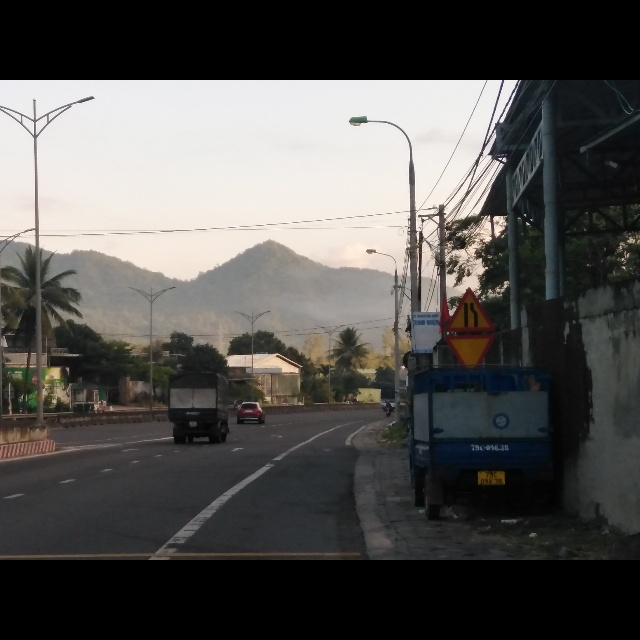Giao nhau với đường ưu tiên: (445, 334, 495, 369)
Đường bị hẹp bên phải: (445, 288, 494, 333)
